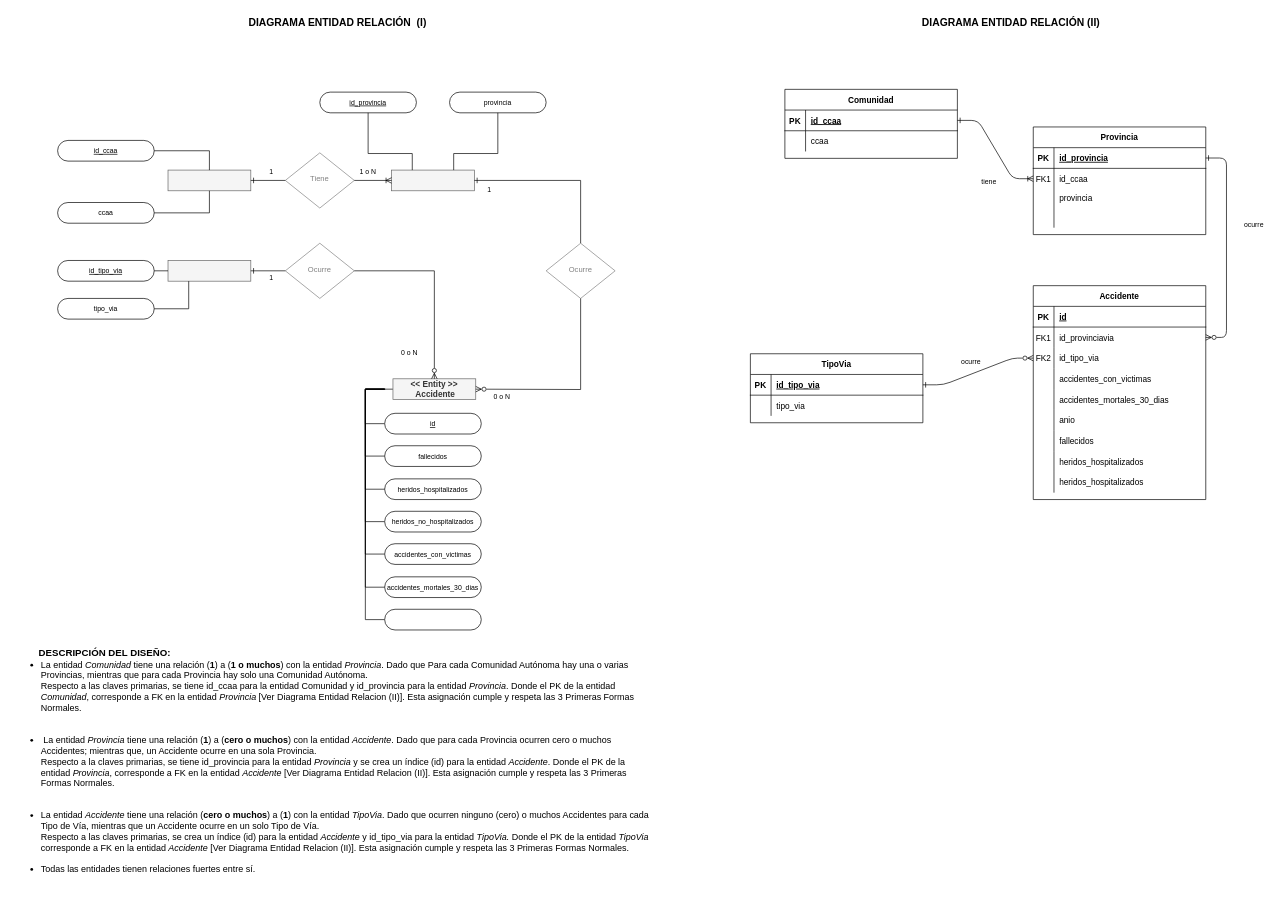
The diagram is 1286 pixels wide and 916 high, and some of its shapes have lost their labels. The shapes that lost their labels are listed below. From the top down, each one's centre as x and y in pixels, then its label:
At pixel 209 180: "<< Entity >> Comunidad".
At pixel 432 180: "<< Entity >> Provincia".
At pixel 209 270: "<< Entity >> TipoVía".
At pixel 432 619: "año".
